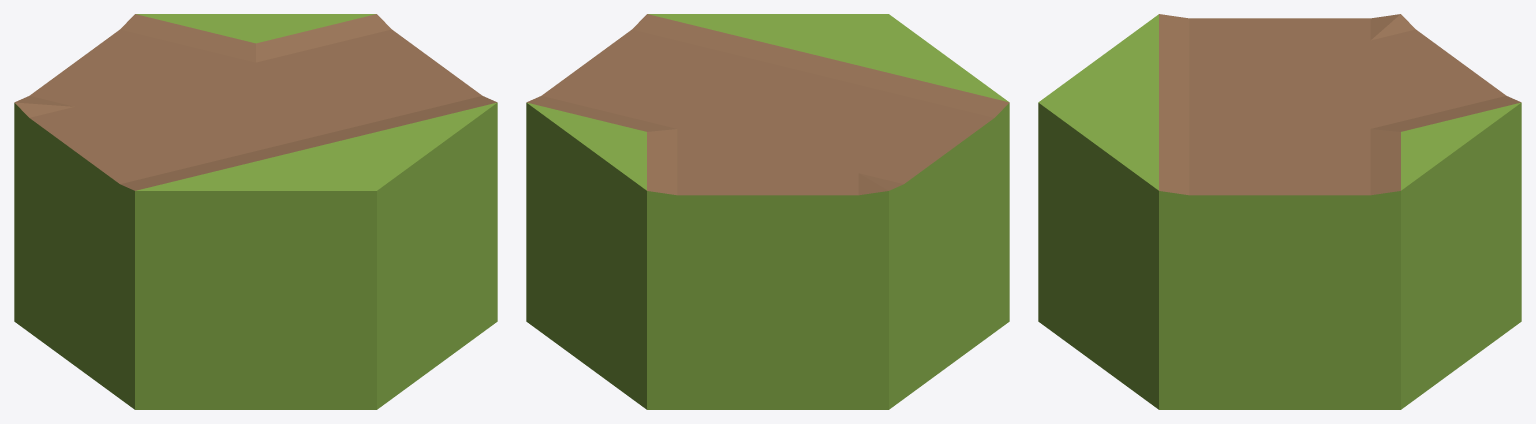
File: road5.fbx
3 views of the same model, side by side, from view 1: azimuth 30°, elevation 25°; view 2: azimuth 150°, elevation 25°; view 3: azimuth 270°, elevation 25° (orthographic).
Parts seen in each view (by area): view 1: Cylinder; view 2: Cylinder; view 3: Cylinder.
Boxes of the visible parts, bbox=[...] form: Cylinder: bbox=[14, 14, 497, 409]; Cylinder: bbox=[526, 14, 1009, 409]; Cylinder: bbox=[1038, 14, 1521, 409].
Bounding box in the file's own units: 1.73 × 1 × 2.
